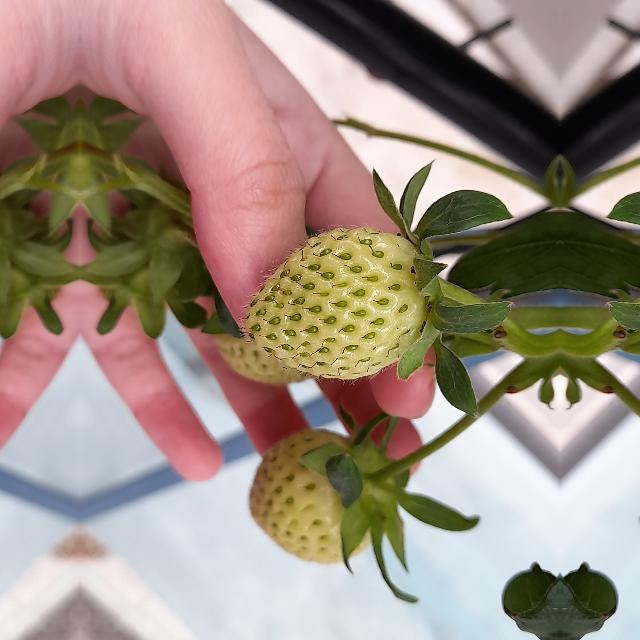Health_25: (244, 225, 426, 378), (246, 426, 388, 566)
